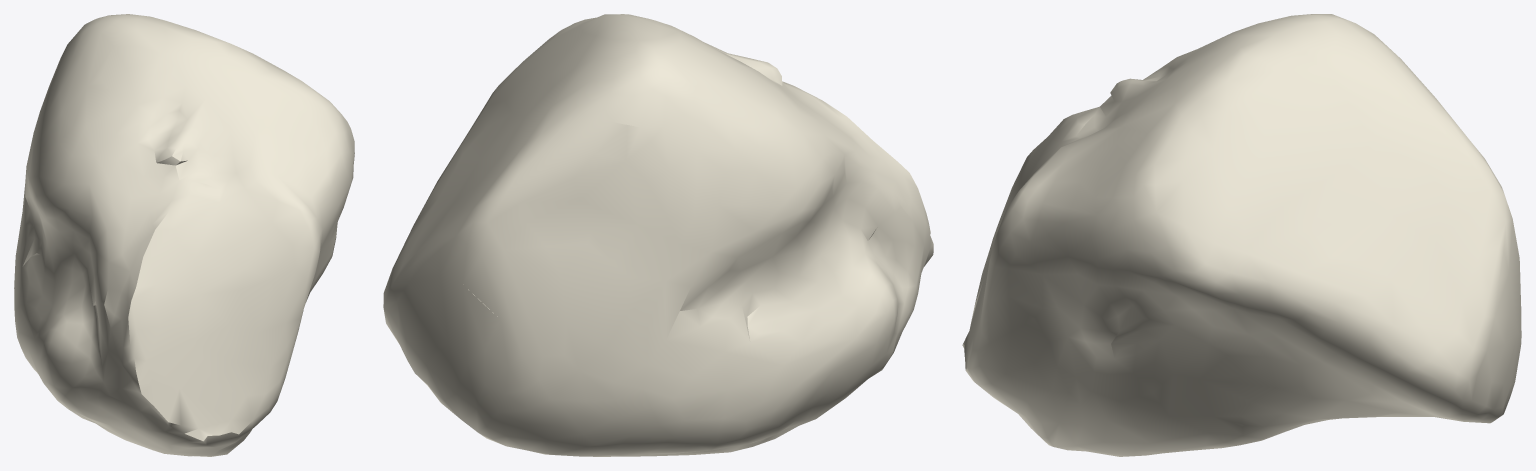
File: fma24440_mm1905m.glb
3 views of the same model, side by side, from view 1: azimuth 30°, elevation 25°; view 2: azimuth 150°, elevation 25°; view 3: azimuth 270°, elevation 25° (orthographic). The views are drawn at different scales.
Visible parts, largest first — view 1: FMA24440_MM1905M; view 2: FMA24440_MM1905M; view 3: FMA24440_MM1905M.
Boxes of the visible parts, x1,y1,x2,y2 form: FMA24440_MM1905M: (14,14,354,456); FMA24440_MM1905M: (383,14,933,456); FMA24440_MM1905M: (962,14,1521,456).
Bounding box in the file's own units: 0.0126 × 0.0136 × 0.0154.
